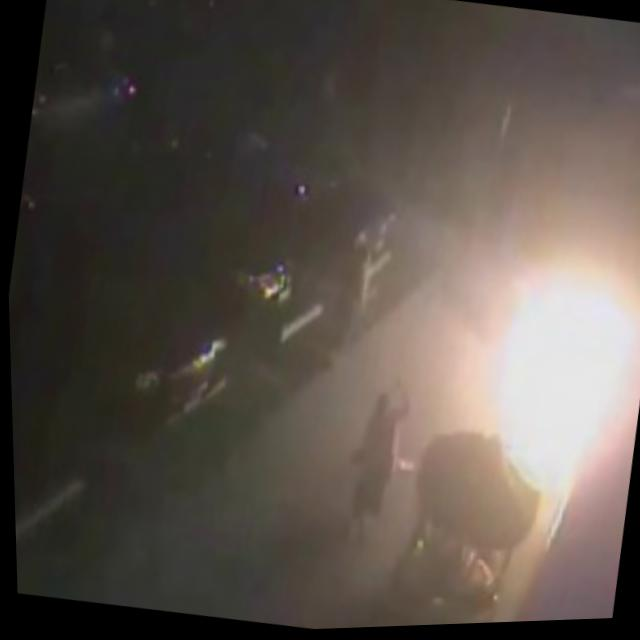fire: (513, 297, 631, 470)
smoke: (29, 0, 639, 289), (106, 213, 445, 581)
